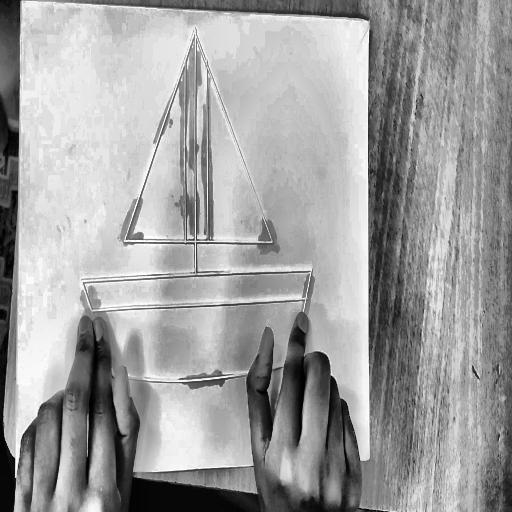boat: (77, 16, 316, 394)
bottom_left: (12, 469, 20, 482)
bottom_right: (366, 451, 374, 465)
top_right: (365, 15, 373, 30)
